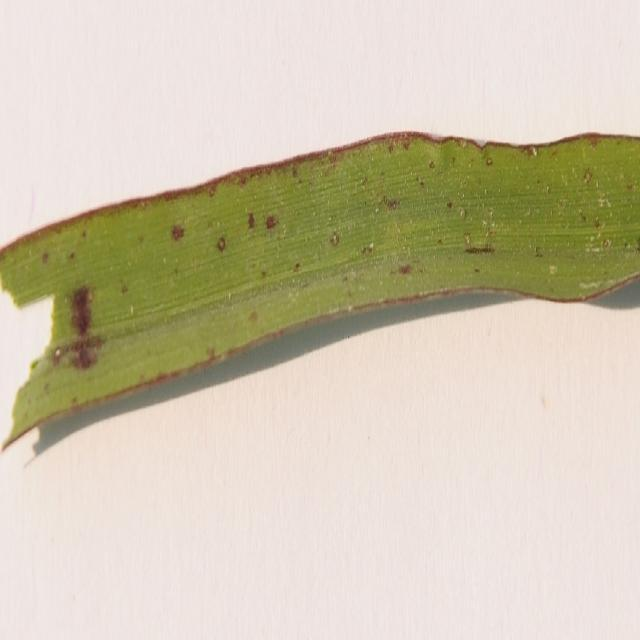Leafsmut: (330, 252, 406, 298), (69, 286, 94, 338), (72, 342, 98, 370), (464, 245, 496, 254), (584, 243, 608, 254), (51, 348, 64, 367), (579, 280, 600, 290), (384, 197, 400, 210), (265, 216, 278, 230), (172, 226, 185, 240), (328, 300, 340, 314), (216, 239, 227, 253), (398, 264, 413, 274), (474, 138, 489, 148), (247, 213, 256, 229), (237, 174, 249, 186), (623, 240, 636, 251), (583, 168, 593, 182), (329, 234, 340, 246), (362, 244, 374, 255), (206, 350, 217, 362), (86, 288, 94, 304), (401, 139, 412, 150), (248, 310, 258, 322), (534, 246, 544, 258), (588, 138, 600, 148), (598, 198, 610, 208), (347, 270, 357, 281), (41, 252, 50, 264), (603, 239, 613, 249), (458, 139, 468, 149), (358, 177, 368, 187), (464, 234, 472, 246), (549, 264, 558, 274), (120, 284, 129, 294), (207, 187, 216, 197), (458, 208, 466, 219), (291, 167, 299, 178), (485, 157, 494, 166), (594, 218, 602, 228), (387, 143, 395, 153), (293, 263, 301, 272), (626, 182, 635, 190), (428, 160, 436, 169), (70, 396, 78, 405), (530, 146, 537, 156), (54, 348, 61, 358), (487, 207, 494, 217), (260, 270, 268, 278), (580, 213, 587, 222), (481, 219, 488, 228), (129, 305, 135, 315), (446, 202, 454, 209), (69, 252, 76, 260), (342, 275, 349, 283), (326, 150, 334, 157), (450, 157, 456, 166), (483, 188, 489, 197), (636, 238, 640, 251), (589, 235, 596, 242), (419, 180, 425, 188), (368, 242, 374, 250), (81, 230, 87, 238), (347, 305, 353, 313), (490, 220, 496, 228), (545, 185, 551, 193), (162, 256, 168, 264), (138, 235, 144, 242), (374, 207, 380, 214), (140, 201, 146, 208), (227, 292, 232, 300), (437, 239, 443, 245), (327, 216, 333, 222), (474, 268, 481, 273)
